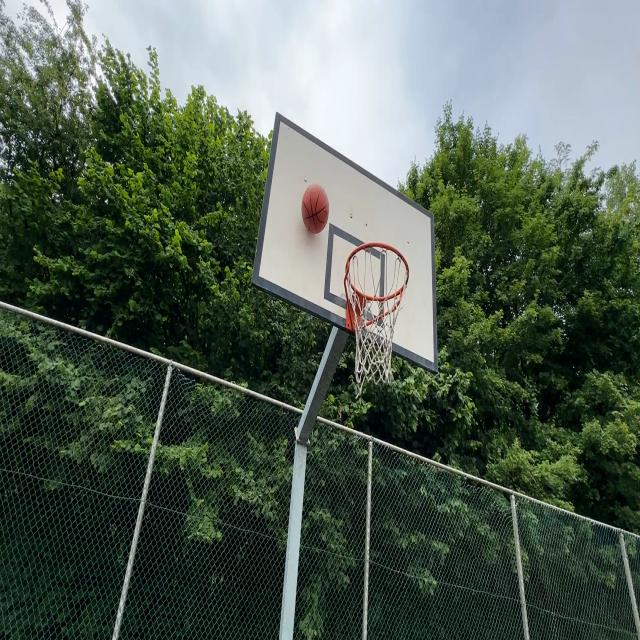rebound_hit: (299, 180, 331, 240)
